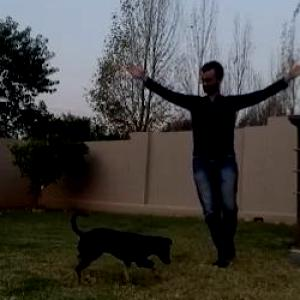takeoff: (131, 62, 299, 266)
